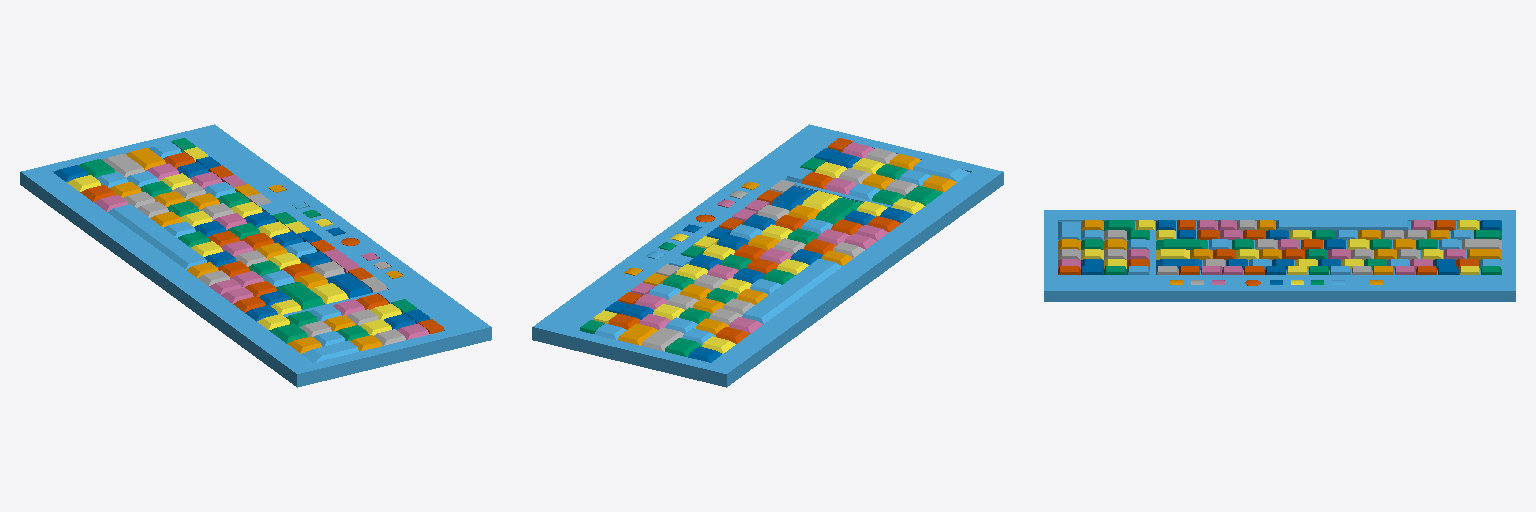
--- What the picture shows (computed from the rendered views, not written in the file) ---
The picture shows the robot from 3 angles, left to right: view 1: azimuth 30°, elevation 25°; view 2: azimuth 150°, elevation 25°; view 3: azimuth 270°, elevation 25°; orthographic projection.
Model partnet_df5e079819a96b84a4d90b04c435893 with 117 links and 116 joints (115 prismatic, 1 fixed), rooted at base, posed every joint at zero.
Links seen in each view (by area): view 1: link_0, link_104, link_57, link_96, link_59, link_22; view 2: link_0, link_104, link_57, link_96, link_59, link_22; view 3: link_0, link_104.
Link boxes in pixels (x1,y1,x2,y2): link_0: (20, 124, 491, 387); link_104: (108, 204, 206, 269); link_57: (276, 282, 324, 309); link_96: (302, 340, 358, 362); link_59: (326, 273, 371, 298); link_22: (103, 154, 144, 177); link_0: (532, 124, 1003, 387); link_104: (742, 259, 841, 323); link_57: (815, 198, 862, 224); link_96: (913, 159, 969, 181); link_59: (771, 186, 816, 210); link_22: (641, 327, 683, 351); link_0: (1044, 210, 1515, 301); link_104: (1276, 220, 1409, 230).
Bounding box of the posed robot: 0.7515 × 1.86 × 0.0588 m (x, y, z).
Meshes: 116 distinct files referenced, 116 mesh visuals loaded (116 OBJ).

The robot description file, URDF, robot "partnet_df5e079819a96b84a4d90b04c435893":
<?xml version="1.0" ?>
<robot name="partnet_df5e079819a96b84a4d90b04c435893">
	<link name="base"/>
	<link name="link_0">
		<visual>
			<origin xyz="0 0 0"/>
			<geometry>
				<mesh filename="textured_objs/original-116.obj"/>
			</geometry>
		</visual>
		<collision>
			<origin xyz="0 0 0"/>
			<geometry>
				<mesh filename="textured_objs/original-116.obj"/>
			</geometry>
		</collision>
	</link>
	<joint name="joint_0" type="fixed">
		<origin rpy="1.570796326794897 0 -1.570796326794897" xyz="0 0 0"/>
		<child link="link_0"/>
		<parent link="base"/>
	</joint>
	<link name="link_1">
		<visual>
			<origin xyz="0 0 0"/>
			<geometry>
				<mesh filename="textured_objs/original-49.obj"/>
			</geometry>
		</visual>
		<collision>
			<origin xyz="0 0 0"/>
			<geometry>
				<mesh filename="textured_objs/original-49.obj"/>
			</geometry>
		</collision>
	</link>
	<joint name="joint_1" type="prismatic">
		<origin xyz="0 0 0"/>
		<axis xyz="0 -1 0"/>
		<child link="link_1"/>
		<parent link="link_0"/>
		<limit lower="0" upper="0.015"/>
	</joint>
	<link name="link_2">
		<visual>
			<origin xyz="0 0 0"/>
			<geometry>
				<mesh filename="textured_objs/original-63.obj"/>
			</geometry>
		</visual>
		<collision>
			<origin xyz="0 0 0"/>
			<geometry>
				<mesh filename="textured_objs/original-63.obj"/>
			</geometry>
		</collision>
	</link>
	<joint name="joint_2" type="prismatic">
		<origin xyz="0 0 0"/>
		<axis xyz="0 -1 0"/>
		<child link="link_2"/>
		<parent link="link_0"/>
		<limit lower="0" upper="0.015"/>
	</joint>
	<link name="link_3">
		<visual>
			<origin xyz="0 0 0"/>
			<geometry>
				<mesh filename="textured_objs/original-64.obj"/>
			</geometry>
		</visual>
		<collision>
			<origin xyz="0 0 0"/>
			<geometry>
				<mesh filename="textured_objs/original-64.obj"/>
			</geometry>
		</collision>
	</link>
	<joint name="joint_3" type="prismatic">
		<origin xyz="0 0 0"/>
		<axis xyz="0 -1 0"/>
		<child link="link_3"/>
		<parent link="link_0"/>
		<limit lower="0" upper="0.015"/>
	</joint>
	<link name="link_4">
		<visual>
			<origin xyz="0 0 0"/>
			<geometry>
				<mesh filename="textured_objs/original-50.obj"/>
			</geometry>
		</visual>
		<collision>
			<origin xyz="0 0 0"/>
			<geometry>
				<mesh filename="textured_objs/original-50.obj"/>
			</geometry>
		</collision>
	</link>
	<joint name="joint_4" type="prismatic">
		<origin xyz="0 0 0"/>
		<axis xyz="0 -1 0"/>
		<child link="link_4"/>
		<parent link="link_0"/>
		<limit lower="0" upper="0.015"/>
	</joint>
	<link name="link_5">
		<visual>
			<origin xyz="0 0 0"/>
			<geometry>
				<mesh filename="textured_objs/original-38.obj"/>
			</geometry>
		</visual>
		<collision>
			<origin xyz="0 0 0"/>
			<geometry>
				<mesh filename="textured_objs/original-38.obj"/>
			</geometry>
		</collision>
	</link>
	<joint name="joint_5" type="prismatic">
		<origin xyz="0 0 0"/>
		<axis xyz="0 -1 0"/>
		<child link="link_5"/>
		<parent link="link_0"/>
		<limit lower="0" upper="0.015"/>
	</joint>
	<link name="link_6">
		<visual>
			<origin xyz="0 0 0"/>
			<geometry>
				<mesh filename="textured_objs/original-39.obj"/>
			</geometry>
		</visual>
		<collision>
			<origin xyz="0 0 0"/>
			<geometry>
				<mesh filename="textured_objs/original-39.obj"/>
			</geometry>
		</collision>
	</link>
	<joint name="joint_6" type="prismatic">
		<origin xyz="0 0 0"/>
		<axis xyz="0 -1 0"/>
		<child link="link_6"/>
		<parent link="link_0"/>
		<limit lower="0" upper="0.015"/>
	</joint>
	<link name="link_7">
		<visual>
			<origin xyz="0 0 0"/>
			<geometry>
				<mesh filename="textured_objs/original-51.obj"/>
			</geometry>
		</visual>
		<collision>
			<origin xyz="0 0 0"/>
			<geometry>
				<mesh filename="textured_objs/original-51.obj"/>
			</geometry>
		</collision>
	</link>
	<joint name="joint_7" type="prismatic">
		<origin xyz="0 0 0"/>
		<axis xyz="0 -1 0"/>
		<child link="link_7"/>
		<parent link="link_0"/>
		<limit lower="0" upper="0.015"/>
	</joint>
	<link name="link_8">
		<visual>
			<origin xyz="0 0 0"/>
			<geometry>
				<mesh filename="textured_objs/original-65.obj"/>
			</geometry>
		</visual>
		<collision>
			<origin xyz="0 0 0"/>
			<geometry>
				<mesh filename="textured_objs/original-65.obj"/>
			</geometry>
		</collision>
	</link>
	<joint name="joint_8" type="prismatic">
		<origin xyz="0 0 0"/>
		<axis xyz="0 -1 0"/>
		<child link="link_8"/>
		<parent link="link_0"/>
		<limit lower="0" upper="0.015"/>
	</joint>
	<link name="link_9">
		<visual>
			<origin xyz="0 0 0"/>
			<geometry>
				<mesh filename="textured_objs/original-40.obj"/>
			</geometry>
		</visual>
		<collision>
			<origin xyz="0 0 0"/>
			<geometry>
				<mesh filename="textured_objs/original-40.obj"/>
			</geometry>
		</collision>
	</link>
	<joint name="joint_9" type="prismatic">
		<origin xyz="0 0 0"/>
		<axis xyz="0 -1 0"/>
		<child link="link_9"/>
		<parent link="link_0"/>
		<limit lower="0" upper="0.015"/>
	</joint>
	<link name="link_10">
		<visual>
			<origin xyz="0 0 0"/>
			<geometry>
				<mesh filename="textured_objs/original-52.obj"/>
			</geometry>
		</visual>
		<collision>
			<origin xyz="0 0 0"/>
			<geometry>
				<mesh filename="textured_objs/original-52.obj"/>
			</geometry>
		</collision>
	</link>
	<joint name="joint_10" type="prismatic">
		<origin xyz="0 0 0"/>
		<axis xyz="0 -1 0"/>
		<child link="link_10"/>
		<parent link="link_0"/>
		<limit lower="0" upper="0.015"/>
	</joint>
	<link name="link_11">
		<visual>
			<origin xyz="0 0 0"/>
			<geometry>
				<mesh filename="textured_objs/original-66.obj"/>
			</geometry>
		</visual>
		<collision>
			<origin xyz="0 0 0"/>
			<geometry>
				<mesh filename="textured_objs/original-66.obj"/>
			</geometry>
		</collision>
	</link>
	<joint name="joint_11" type="prismatic">
		<origin xyz="0 0 0"/>
		<axis xyz="0 -1 0"/>
		<child link="link_11"/>
		<parent link="link_0"/>
		<limit lower="0" upper="0.015"/>
	</joint>
	<link name="link_12">
		<visual>
			<origin xyz="0 0 0"/>
			<geometry>
				<mesh filename="textured_objs/original-53.obj"/>
			</geometry>
		</visual>
		<collision>
			<origin xyz="0 0 0"/>
			<geometry>
				<mesh filename="textured_objs/original-53.obj"/>
			</geometry>
		</collision>
	</link>
	<joint name="joint_12" type="prismatic">
		<origin xyz="0 0 0"/>
		<axis xyz="0 -1 0"/>
		<child link="link_12"/>
		<parent link="link_0"/>
		<limit lower="0" upper="0.015"/>
	</joint>
	<link name="link_13">
		<visual>
			<origin xyz="0 0 0"/>
			<geometry>
				<mesh filename="textured_objs/original-58.obj"/>
			</geometry>
		</visual>
		<collision>
			<origin xyz="0 0 0"/>
			<geometry>
				<mesh filename="textured_objs/original-58.obj"/>
			</geometry>
		</collision>
	</link>
	<joint name="joint_13" type="prismatic">
		<origin xyz="0 0 0"/>
		<axis xyz="0 -1 0"/>
		<child link="link_13"/>
		<parent link="link_0"/>
		<limit lower="0" upper="0.015"/>
	</joint>
	<link name="link_14">
		<visual>
			<origin xyz="0 0 0"/>
			<geometry>
				<mesh filename="textured_objs/original-45.obj"/>
			</geometry>
		</visual>
		<collision>
			<origin xyz="0 0 0"/>
			<geometry>
				<mesh filename="textured_objs/original-45.obj"/>
			</geometry>
		</collision>
	</link>
	<joint name="joint_14" type="prismatic">
		<origin xyz="0 0 0"/>
		<axis xyz="0 -1 0"/>
		<child link="link_14"/>
		<parent link="link_0"/>
		<limit lower="0" upper="0.015"/>
	</joint>
	<link name="link_15">
		<visual>
			<origin xyz="0 0 0"/>
			<geometry>
				<mesh filename="textured_objs/original-33.obj"/>
			</geometry>
		</visual>
		<collision>
			<origin xyz="0 0 0"/>
			<geometry>
				<mesh filename="textured_objs/original-33.obj"/>
			</geometry>
		</collision>
	</link>
	<joint name="joint_15" type="prismatic">
		<origin xyz="0 0 0"/>
		<axis xyz="0 -1 0"/>
		<child link="link_15"/>
		<parent link="link_0"/>
		<limit lower="0" upper="0.015"/>
	</joint>
	<link name="link_16">
		<visual>
			<origin xyz="0 0 0"/>
			<geometry>
				<mesh filename="textured_objs/original-31.obj"/>
			</geometry>
		</visual>
		<collision>
			<origin xyz="0 0 0"/>
			<geometry>
				<mesh filename="textured_objs/original-31.obj"/>
			</geometry>
		</collision>
	</link>
	<joint name="joint_16" type="prismatic">
		<origin xyz="0 0 0"/>
		<axis xyz="0 -1 0"/>
		<child link="link_16"/>
		<parent link="link_0"/>
		<limit lower="0" upper="0.015"/>
	</joint>
	<link name="link_17">
		<visual>
			<origin xyz="0 0 0"/>
			<geometry>
				<mesh filename="textured_objs/original-32.obj"/>
			</geometry>
		</visual>
		<collision>
			<origin xyz="0 0 0"/>
			<geometry>
				<mesh filename="textured_objs/original-32.obj"/>
			</geometry>
		</collision>
	</link>
	<joint name="joint_17" type="prismatic">
		<origin xyz="0 0 0"/>
		<axis xyz="0 -1 0"/>
		<child link="link_17"/>
		<parent link="link_0"/>
		<limit lower="0" upper="0.015"/>
	</joint>
	<link name="link_18">
		<visual>
			<origin xyz="0 0 0"/>
			<geometry>
				<mesh filename="textured_objs/original-44.obj"/>
			</geometry>
		</visual>
		<collision>
			<origin xyz="0 0 0"/>
			<geometry>
				<mesh filename="textured_objs/original-44.obj"/>
			</geometry>
		</collision>
	</link>
	<joint name="joint_18" type="prismatic">
		<origin xyz="0 0 0"/>
		<axis xyz="0 -1 0"/>
		<child link="link_18"/>
		<parent link="link_0"/>
		<limit lower="0" upper="0.015"/>
	</joint>
	<link name="link_19">
		<visual>
			<origin xyz="0 0 0"/>
			<geometry>
				<mesh filename="textured_objs/original-57.obj"/>
			</geometry>
		</visual>
		<collision>
			<origin xyz="0 0 0"/>
			<geometry>
				<mesh filename="textured_objs/original-57.obj"/>
			</geometry>
		</collision>
	</link>
	<joint name="joint_19" type="prismatic">
		<origin xyz="0 0 0"/>
		<axis xyz="0 -1 0"/>
		<child link="link_19"/>
		<parent link="link_0"/>
		<limit lower="0" upper="0.015"/>
	</joint>
	<link name="link_20">
		<visual>
			<origin xyz="0 0 0"/>
			<geometry>
				<mesh filename="textured_objs/original-56.obj"/>
			</geometry>
		</visual>
		<collision>
			<origin xyz="0 0 0"/>
			<geometry>
				<mesh filename="textured_objs/original-56.obj"/>
			</geometry>
		</collision>
	</link>
	<joint name="joint_20" type="prismatic">
		<origin xyz="0 0 0"/>
		<axis xyz="0 -1 0"/>
		<child link="link_20"/>
		<parent link="link_0"/>
		<limit lower="0" upper="0.015"/>
	</joint>
	<link name="link_21">
		<visual>
			<origin xyz="0 0 0"/>
			<geometry>
				<mesh filename="textured_objs/original-43.obj"/>
			</geometry>
		</visual>
		<collision>
			<origin xyz="0 0 0"/>
			<geometry>
				<mesh filename="textured_objs/original-43.obj"/>
			</geometry>
		</collision>
	</link>
	<joint name="joint_21" type="prismatic">
		<origin xyz="0 0 0"/>
		<axis xyz="0 -1 0"/>
		<child link="link_21"/>
		<parent link="link_0"/>
		<limit lower="0" upper="0.015"/>
	</joint>
	<link name="link_22">
		<visual>
			<origin xyz="0 0 0"/>
			<geometry>
				<mesh filename="textured_objs/original-3.obj"/>
			</geometry>
		</visual>
		<collision>
			<origin xyz="0 0 0"/>
			<geometry>
				<mesh filename="textured_objs/original-3.obj"/>
			</geometry>
		</collision>
	</link>
	<joint name="joint_22" type="prismatic">
		<origin xyz="0 0 0"/>
		<axis xyz="0 -1 0"/>
		<child link="link_22"/>
		<parent link="link_0"/>
		<limit lower="0" upper="0.015"/>
	</joint>
	<link name="link_23">
		<visual>
			<origin xyz="0 0 0"/>
			<geometry>
				<mesh filename="textured_objs/original-4.obj"/>
			</geometry>
		</visual>
		<collision>
			<origin xyz="0 0 0"/>
			<geometry>
				<mesh filename="textured_objs/original-4.obj"/>
			</geometry>
		</collision>
	</link>
	<joint name="joint_23" type="prismatic">
		<origin xyz="0 0 0"/>
		<axis xyz="0 -1 0"/>
		<child link="link_23"/>
		<parent link="link_0"/>
		<limit lower="0" upper="0.015"/>
	</joint>
	<link name="link_24">
		<visual>
			<origin xyz="0 0 0"/>
			<geometry>
				<mesh filename="textured_objs/original-55.obj"/>
			</geometry>
		</visual>
		<collision>
			<origin xyz="0 0 0"/>
			<geometry>
				<mesh filename="textured_objs/original-55.obj"/>
			</geometry>
		</collision>
	</link>
	<joint name="joint_24" type="prismatic">
		<origin xyz="0 0 0"/>
		<axis xyz="0 -1 0"/>
		<child link="link_24"/>
		<parent link="link_0"/>
		<limit lower="0" upper="0.015"/>
	</joint>
	<link name="link_25">
		<visual>
			<origin xyz="0 0 0"/>
			<geometry>
				<mesh filename="textured_objs/original-70.obj"/>
			</geometry>
		</visual>
		<collision>
			<origin xyz="0 0 0"/>
			<geometry>
				<mesh filename="textured_objs/original-70.obj"/>
			</geometry>
		</collision>
	</link>
	<joint name="joint_25" type="prismatic">
		<origin xyz="0 0 0"/>
		<axis xyz="0 -1 0"/>
		<child link="link_25"/>
		<parent link="link_0"/>
		<limit lower="0" upper="0.015"/>
	</joint>
	<link name="link_26">
		<visual>
			<origin xyz="0 0 0"/>
			<geometry>
				<mesh filename="textured_objs/original-71.obj"/>
			</geometry>
		</visual>
		<collision>
			<origin xyz="0 0 0"/>
			<geometry>
				<mesh filename="textured_objs/original-71.obj"/>
			</geometry>
		</collision>
	</link>
	<joint name="joint_26" type="prismatic">
		<origin xyz="0 0 0"/>
		<axis xyz="0 -1 0"/>
		<child link="link_26"/>
		<parent link="link_0"/>
		<limit lower="0" upper="0.015"/>
	</joint>
	<link name="link_27">
		<visual>
			<origin xyz="0 0 0"/>
			<geometry>
				<mesh filename="textured_objs/original-72.obj"/>
			</geometry>
		</visual>
		<collision>
			<origin xyz="0 0 0"/>
			<geometry>
				<mesh filename="textured_objs/original-72.obj"/>
			</geometry>
		</collision>
	</link>
	<joint name="joint_27" type="prismatic">
		<origin xyz="0 0 0"/>
		<axis xyz="0 -1 0"/>
		<child link="link_27"/>
		<parent link="link_0"/>
		<limit lower="0" upper="0.015"/>
	</joint>
	<link name="link_28">
		<visual>
			<origin xyz="0 0 0"/>
			<geometry>
				<mesh filename="textured_objs/original-73.obj"/>
			</geometry>
		</visual>
		<collision>
			<origin xyz="0 0 0"/>
			<geometry>
				<mesh filename="textured_objs/original-73.obj"/>
			</geometry>
		</collision>
	</link>
	<joint name="joint_28" type="prismatic">
		<origin xyz="0 0 0"/>
		<axis xyz="0 -1 0"/>
		<child link="link_28"/>
		<parent link="link_0"/>
		<limit lower="0" upper="0.015"/>
	</joint>
	<link name="link_29">
		<visual>
			<origin xyz="0 0 0"/>
			<geometry>
				<mesh filename="textured_objs/original-74.obj"/>
			</geometry>
		</visual>
		<collision>
			<origin xyz="0 0 0"/>
			<geometry>
				<mesh filename="textured_objs/original-74.obj"/>
			</geometry>
		</collision>
	</link>
	<joint name="joint_29" type="prismatic">
		<origin xyz="0 0 0"/>
		<axis xyz="0 -1 0"/>
		<child link="link_29"/>
		<parent link="link_0"/>
		<limit lower="0" upper="0.015"/>
	</joint>
	<link name="link_30">
		<visual>
			<origin xyz="0 0 0"/>
			<geometry>
				<mesh filename="textured_objs/original-76.obj"/>
			</geometry>
		</visual>
		<collision>
			<origin xyz="0 0 0"/>
			<geometry>
				<mesh filename="textured_objs/original-76.obj"/>
			</geometry>
		</collision>
	</link>
	<joint name="joint_30" type="prismatic">
		<origin xyz="0 0 0"/>
		<axis xyz="0 -1 0"/>
		<child link="link_30"/>
		<parent link="link_0"/>
		<limit lower="0" upper="0.015"/>
	</joint>
	<link name="link_31">
		<visual>
			<origin xyz="0 0 0"/>
			<geometry>
				<mesh filename="textured_objs/original-75.obj"/>
			</geometry>
		</visual>
		<collision>
			<origin xyz="0 0 0"/>
			<geometry>
				<mesh filename="textured_objs/original-75.obj"/>
			</geometry>
		</collision>
	</link>
	<joint name="joint_31" type="prismatic">
		<origin xyz="0 0 0"/>
		<axis xyz="0 -1 0"/>
		<child link="link_31"/>
		<parent link="link_0"/>
		<limit lower="0" upper="0.015"/>
	</joint>
	<link name="link_32">
		<visual>
			<origin xyz="0 0 0"/>
			<geometry>
				<mesh filename="textured_objs/original-77.obj"/>
			</geometry>
		</visual>
		<collision>
			<origin xyz="0 0 0"/>
			<geometry>
				<mesh filename="textured_objs/original-77.obj"/>
			</geometry>
		</collision>
	</link>
	<joint name="joint_32" type="prismatic">
		<origin xyz="0 0 0"/>
		<axis xyz="0 -1 0"/>
		<child link="link_32"/>
		<parent link="link_0"/>
		<limit lower="0" upper="0.015"/>
	</joint>
	<link name="link_33">
		<visual>
			<origin xyz="0 0 0"/>
			<geometry>
				<mesh filename="textured_objs/original-78.obj"/>
			</geometry>
		</visual>
		<collision>
			<origin xyz="0 0 0"/>
			<geometry>
				<mesh filename="textured_objs/original-78.obj"/>
			</geometry>
		</collision>
	</link>
	<joint name="joint_33" type="prismatic">
		<origin xyz="0 0 0"/>
		<axis xyz="0 -1 0"/>
		<child link="link_33"/>
		<parent link="link_0"/>
		<limit lower="0" upper="0.015"/>
	</joint>
	<link name="link_34">
		<visual>
			<origin xyz="0 0 0"/>
			<geometry>
				<mesh filename="textured_objs/original-79.obj"/>
			</geometry>
		</visual>
		<collision>
			<origin xyz="0 0 0"/>
			<geometry>
				<mesh filename="textured_objs/original-79.obj"/>
			</geometry>
		</collision>
	</link>
	<joint name="joint_34" type="prismatic">
		<origin xyz="0 0 0"/>
		<axis xyz="0 -1 0"/>
		<child link="link_34"/>
		<parent link="link_0"/>
		<limit lower="0" upper="0.015"/>
	</joint>
	<link name="link_35">
		<visual>
			<origin xyz="0 0 0"/>
			<geometry>
				<mesh filename="textured_objs/original-80.obj"/>
			</geometry>
		</visual>
		<collision>
			<origin xyz="0 0 0"/>
			<geometry>
				<mesh filename="textured_objs/original-80.obj"/>
			</geometry>
		</collision>
	</link>
	<joint name="joint_35" type="prismatic">
		<origin xyz="0 0 0"/>
		<axis xyz="0 -1 0"/>
		<child link="link_35"/>
		<parent link="link_0"/>
		<limit lower="0" upper="0.015"/>
	</joint>
	<link name="link_36">
		<visual>
			<origin xyz="0 0 0"/>
			<geometry>
				<mesh filename="textured_objs/original-81.obj"/>
			</geometry>
		</visual>
		<collision>
			<origin xyz="0 0 0"/>
			<geometry>
				<mesh filename="textured_objs/original-81.obj"/>
			</geometry>
		</collision>
	</link>
	<joint name="joint_36" type="prismatic">
		<origin xyz="0 0 0"/>
		<axis xyz="0 -1 0"/>
		<child link="link_36"/>
		<parent link="link_0"/>
		<limit lower="0" upper="0.015"/>
	</joint>
	<link name="link_37">
		<visual>
			<origin xyz="0 0 0"/>
			<geometry>
				<mesh filename="textured_objs/original-82.obj"/>
			</geometry>
		</visual>
		<collision>
			<origin xyz="0 0 0"/>
			<geometry>
				<mesh filename="textured_objs/original-82.obj"/>
			</geometry>
		</collision>
	</link>
	<joint name="joint_37" type="prismatic">
		<origin xyz="0 0 0"/>
		<axis xyz="0 -1 0"/>
		<child link="link_37"/>
		<parent link="link_0"/>
		<limit lower="0" upper="0.015"/>
	</joint>
	<link name="link_38">
		<visual>
			<origin xyz="0 0 0"/>
			<geometry>
				<mesh filename="textured_objs/original-12.obj"/>
			</geometry>
		</visual>
		<collision>
			<origin xyz="0 0 0"/>
			<geometry>
				<mesh filename="textured_objs/original-12.obj"/>
			</geometry>
		</collision>
	</link>
	<joint name="joint_38" type="prismatic">
		<origin xyz="0 0 0"/>
		<axis xyz="0 -1 0"/>
		<child link="link_38"/>
		<parent link="link_0"/>
		<limit lower="0" upper="0.015"/>
	</joint>
	<link name="link_39">
		<visual>
			<origin xyz="0 0 0"/>
			<geometry>
				<mesh filename="textured_objs/original-11.obj"/>
			</geometry>
		</visual>
		<collision>
			<origin xyz="0 0 0"/>
			<geometry>
				<mesh filename="textured_objs/original-11.obj"/>
			</geometry>
		</collision>
	</link>
	<joint name="joint_39" type="prismatic">
		<origin xyz="0 0 0"/>
		<axis xyz="0 -1 0"/>
		<child link="link_39"/>
		<parent link="link_0"/>
		<limit lower="0" upper="0.015"/>
	</joint>
	<link name="link_40">
		<visual>
			<origin xyz="0 0 0"/>
			<geometry>
				<mesh filename="textured_objs/original-10.obj"/>
			</geometry>
		</visual>
		<collision>
			<origin xyz="0 0 0"/>
			<geometry>
				<mesh filename="textured_objs/original-10.obj"/>
			</geometry>
		</collision>
	</link>
	<joint name="joint_40" type="prismatic">
		<origin xyz="0 0 0"/>
		<axis xyz="0 -1 0"/>
		<child link="link_40"/>
		<parent link="link_0"/>
		<limit lower="0" upper="0.015"/>
	</joint>
	<link name="link_41">
		<visual>
			<origin xyz="0 0 0"/>
			<geometry>
				<mesh filename="textured_objs/original-1.obj"/>
			</geometry>
		</visual>
		<collision>
			<origin xyz="0 0 0"/>
			<geometry>
				<mesh filename="textured_objs/original-1.obj"/>
			</geometry>
		</collision>
	</link>
	<joint name="joint_41" type="prismatic">
		<origin xyz="0 0 0"/>
		<axis xyz="0 -1 0"/>
		<child link="link_41"/>
		<parent link="link_0"/>
		<limit lower="0" upper="0.015"/>
	</joint>
	<link name="link_42">
		<visual>
			<origin xyz="0 0 0"/>
			<geometry>
				<mesh filename="textured_objs/original-7.obj"/>
			</geometry>
		</visual>
		<collision>
			<origin xyz="0 0 0"/>
			<geometry>
				<mesh filename="textured_objs/original-7.obj"/>
			</geometry>
		</collision>
	</link>
	<joint name="joint_42" type="prismatic">
		<origin xyz="0 0 0"/>
		<axis xyz="0 -1 0"/>
		<child link="link_42"/>
		<parent link="link_0"/>
		<limit lower="0" upper="0.015"/>
	</joint>
	<link name="link_43">
		<visual>
			<origin xyz="0 0 0"/>
			<geometry>
				<mesh filename="textured_objs/original-6.obj"/>
			</geometry>
		</visual>
		<collision>
			<origin xyz="0 0 0"/>
			<geometry>
				<mesh filename="textured_objs/original-6.obj"/>
			</geometry>
		</collision>
	</link>
	<joint name="joint_43" type="prismatic">
		<origin xyz="0 0 0"/>
		<axis xyz="0 -1 0"/>
		<child link="link_43"/>
		<parent link="link_0"/>
		<limit lower="0" upper="0.015"/>
	</joint>
	<link name="link_44">
		<visual>
			<origin xyz="0 0 0"/>
			<geometry>
				<mesh filename="textured_objs/original-8.obj"/>
			</geometry>
		</visual>
		<collision>
			<origin xyz="0 0 0"/>
			<geometry>
				<mesh filename="textured_objs/original-8.obj"/>
			</geometry>
		</collision>
	</link>
	<joint name="joint_44" type="prismatic">
		<origin xyz="0 0 0"/>
		<axis xyz="0 -1 0"/>
		<child link="link_44"/>
		<parent link="link_0"/>
		<limit lower="0" upper="0.015"/>
	</joint>
	<link name="link_45">
		<visual>
			<origin xyz="0 0 0"/>
			<geometry>
				<mesh filename="textured_objs/original-9.obj"/>
			</geometry>
		</visual>
		<collision>
			<origin xyz="0 0 0"/>
			<geometry>
				<mesh filename="textured_objs/original-9.obj"/>
			</geometry>
		</collision>
	</link>
	<joint name="joint_45" type="prismatic">
		<origin xyz="0 0 0"/>
		<axis xyz="0 -1 0"/>
		<child link="link_45"/>
		<parent link="link_0"/>
		<limit lower="0" upper="0.015"/>
	</joint>
	<link name="link_46">
		<visual>
			<origin xyz="0 0 0"/>
			<geometry>
				<mesh filename="textured_objs/original-13.obj"/>
			</geometry>
		</visual>
		<collision>
			<origin xyz="0 0 0"/>
			<geometry>
				<mesh filename="textured_objs/original-13.obj"/>
			</geometry>
		</collision>
	</link>
	<joint name="joint_46" type="prismatic">
		<origin xyz="0 0 0"/>
		<axis xyz="0 -1 0"/>
		<child link="link_46"/>
		<parent link="link_0"/>
		<limit lower="0" upper="0.015"/>
	</joint>
	<link name="link_47">
		<visual>
			<origin xyz="0 0 0"/>
			<geometry>
				<mesh filename="textured_objs/original-14.obj"/>
			</geometry>
		</visual>
		<collision>
			<origin xyz="0 0 0"/>
			<geometry>
				<mesh filename="textured_objs/original-14.obj"/>
			</geometry>
		</collision>
	</link>
	<joint name="joint_47" type="prismatic">
		<origin xyz="0 0 0"/>
		<axis xyz="0 -1 0"/>
		<child link="link_47"/>
		<parent link="link_0"/>
		<limit lower="0" upper="0.015"/>
	</joint>
	<link name="link_48">
		<visual>
			<origin xyz="0 0 0"/>
			<geometry>
				<mesh filename="textured_objs/original-15.obj"/>
			</geometry>
		</visual>
		<collision>
			<origin xyz="0 0 0"/>
			<geometry>
				<mesh filename="textured_objs/original-15.obj"/>
			</geometry>
		</collision>
	</link>
	<joint name="joint_48" type="prismatic">
		<origin xyz="0 0 0"/>
		<axis xyz="0 -1 0"/>
		<child link="link_48"/>
		<parent link="link_0"/>
		<limit lower="0" upper="0.015"/>
	</joint>
	<link name="link_49">
		<visual>
			<origin xyz="0 0 0"/>
			<geometry>
				<mesh filename="textured_objs/original-16.obj"/>
			</geometry>
		</visual>
		<collision>
			<origin xyz="0 0 0"/>
			<geometry>
				<mesh filename="textured_objs/original-16.obj"/>
			</geometry>
		</collision>
	</link>
	<joint name="joint_49" type="prismatic">
		<origin xyz="0 0 0"/>
		<axis xyz="0 -1 0"/>
		<child link="link_49"/>
		<parent link="link_0"/>
		<limit lower="0" upper="0.015"/>
	</joint>
	<link name="link_50">
		<visual>
			<origin xyz="0 0 0"/>
			<geometry>
				<mesh filename="textured_objs/original-17.obj"/>
			</geometry>
		</visual>
		<collision>
			<origin xyz="0 0 0"/>
			<geometry>
				<mesh filename="textured_objs/original-17.obj"/>
			</geometry>
		</collision>
	</link>
	<joint name="joint_50" type="prismatic">
		<origin xyz="0 0 0"/>
		<axis xyz="0 -1 0"/>
		<child link="link_50"/>
		<parent link="link_0"/>
		<limit lower="0" upper="0.015"/>
	</joint>
	<link name="link_51">
		<visual>
			<origin xyz="0 0 0"/>
			<geometry>
				<mesh filename="textured_objs/original-18.obj"/>
			</geometry>
		</visual>
		<collision>
			<origin xyz="0 0 0"/>
			<geometry>
				<mesh filename="textured_objs/original-18.obj"/>
			</geometry>
		</collision>
	</link>
	<joint name="joint_51" type="prismatic">
		<origin xyz="0 0 0"/>
		<axis xyz="0 -1 0"/>
		<child link="link_51"/>
		<parent link="link_0"/>
		<limit lower="0" upper="0.015"/>
	</joint>
	<link name="link_52">
		<visual>
			<origin xyz="0 0 0"/>
			<geometry>
				<mesh filename="textured_objs/original-19.obj"/>
			</geometry>
		</visual>
		<collision>
			<origin xyz="0 0 0"/>
			<geometry>
				<mesh filename="textured_objs/original-19.obj"/>
			</geometry>
		</collision>
	</link>
	<joint name="joint_52" type="prismatic">
		<origin xyz="0 0 0"/>
		<axis xyz="0 -1 0"/>
		<child link="link_52"/>
		<parent link="link_0"/>
		<limit lower="0" upper="0.015"/>
	</joint>
	<link name="link_53">
		<visual>
			<origin xyz="0 0 0"/>
			<geometry>
				<mesh filename="textured_objs/original-20.obj"/>
			</geometry>
		</visual>
		<collision>
			<origin xyz="0 0 0"/>
			<geometry>
				<mesh filename="textured_objs/original-20.obj"/>
			</geometry>
		</collision>
	</link>
	<joint name="joint_53" type="prismatic">
		<origin xyz="0 0 0"/>
		<axis xyz="0 -1 0"/>
		<child link="link_53"/>
		<parent link="link_0"/>
		<limit lower="0" upper="0.015"/>
	</joint>
	<link name="link_54">
		<visual>
			<origin xyz="0 0 0"/>
			<geometry>
				<mesh filename="textured_objs/original-67.obj"/>
			</geometry>
		</visual>
		<collision>
			<origin xyz="0 0 0"/>
			<geometry>
				<mesh filename="textured_objs/original-67.obj"/>
			</geometry>
		</collision>
	</link>
	<joint name="joint_54" type="prismatic">
		<origin xyz="0 0 0"/>
		<axis xyz="0 -1 0"/>
		<child link="link_54"/>
		<parent link="link_0"/>
		<limit lower="0" upper="0.015"/>
	</joint>
	<link name="link_55">
		<visual>
			<origin xyz="0 0 0"/>
			<geometry>
				<mesh filename="textured_objs/original-54.obj"/>
			</geometry>
		</visual>
		<collision>
			<origin xyz="0 0 0"/>
			<geometry>
				<mesh filename="textured_objs/original-54.obj"/>
			</geometry>
		</collision>
	</link>
	<joint name="joint_55" type="prismatic">
		<origin xyz="0 0 0"/>
		<axis xyz="0 -1 0"/>
		<child link="link_55"/>
		<parent link="link_0"/>
		<limit lower="0" upper="0.015"/>
	</joint>
	<link name="link_56">
		<visual>
			<origin xyz="0 0 0"/>
			<geometry>
				<mesh filename="textured_objs/original-41.obj"/>
			</geometry>
		</visual>
		<collision>
			<origin xyz="0 0 0"/>
			<geometry>
				<mesh filename="textured_objs/original-41.obj"/>
			</geometry>
		</collision>
	</link>
	<joint name="joint_56" type="prismatic">
		<origin xyz="0 0 0"/>
		<axis xyz="0 -1 0"/>
		<child link="link_56"/>
		<parent link="link_0"/>
		<limit lower="0" upper="0.015"/>
	</joint>
	<link name="link_57">
		<visual>
			<origin xyz="0 0 0"/>
			<geometry>
				<mesh filename="textured_objs/original-42.obj"/>
			</geometry>
		</visual>
		<collision>
			<origin xyz="0 0 0"/>
			<geometry>
				<mesh filename="textured_objs/original-42.obj"/>
			</geometry>
		</collision>
	</link>
	<joint name="joint_57" type="prismatic">
		<origin xyz="0 0 0"/>
		<axis xyz="0 -1 0"/>
		<child link="link_57"/>
		<parent link="link_0"/>
		<limit lower="0" upper="0.015"/>
	</joint>
	<link name="link_58">
		<visual>
			<origin xyz="0 0 0"/>
			<geometry>
				<mesh filename="textured_objs/original-68.obj"/>
			</geometry>
		</visual>
		<collision>
			<origin xyz="0 0 0"/>
			<geometry>
				<mesh filename="textured_objs/original-68.obj"/>
			</geometry>
		</collision>
	</link>
	<joint name="joint_58" type="prismatic">
		<origin xyz="0 0 0"/>
		<axis xyz="0 -1 0"/>
		<child link="link_58"/>
		<parent link="link_0"/>
		<limit lower="0" upper="0.015"/>
	</joint>
	<link name="link_59">
		<visual>
			<origin xyz="0 0 0"/>
			<geometry>
				<mesh filename="textured_objs/original-69.obj"/>
			</geometry>
		</visual>
		<collision>
			<origin xyz="0 0 0"/>
			<geometry>
				<mesh filename="textured_objs/original-69.obj"/>
			</geometry>
		</collision>
	</link>
	<joint name="joint_59" type="prismatic">
		<origin xyz="0 0 0"/>
		<axis xyz="0 -1 0"/>
		<child link="link_59"/>
		<parent link="link_0"/>
		<limit lower="0" upper="0.015"/>
	</joint>
	<link name="link_60">
		<visual>
			<origin xyz="0 0 0"/>
			<geometry>
				<mesh filename="textured_objs/original-84.obj"/>
			</geometry>
		</visual>
		<collision>
			<origin xyz="0 0 0"/>
			<geometry>
				<mesh filename="textured_objs/original-84.obj"/>
			</geometry>
		</collision>
	</link>
	<joint name="joint_60" type="prismatic">
		<origin xyz="0 0 0"/>
		<axis xyz="0 -1 0"/>
		<child link="link_60"/>
		<parent link="link_0"/>
		<limit lower="0" upper="0.015"/>
	</joint>
	<link name="link_61">
		<visual>
			<origin xyz="0 0 0"/>
			<geometry>
				<mesh filename="textured_objs/original-83.obj"/>
			</geometry>
		</visual>
		<collision>
			<origin xyz="0 0 0"/>
			<geometry>
				<mesh filename="textured_objs/original-83.obj"/>
			</geometry>
		</collision>
	</link>
	<joint name="joint_61" type="prismatic">
		<origin xyz="0 0 0"/>
		<axis xyz="0 -1 0"/>
		<child link="link_61"/>
		<parent link="link_0"/>
		<limit lower="0" upper="0.015"/>
	</joint>
	<link name="link_62">
		<visual>
			<origin xyz="0 0 0"/>
			<geometry>
				<mesh filename="textured_objs/original-85.obj"/>
			</geometry>
		</visual>
		<collision>
			<origin xyz="0 0 0"/>
			<geometry>
				<mesh filename="textured_objs/original-85.obj"/>
			</geometry>
		</collision>
	</link>
	<joint name="joint_62" type="prismatic">
		<origin xyz="0 0 0"/>
		<axis xyz="0 -1 0"/>
		<child link="link_62"/>
		<parent link="link_0"/>
		<limit lower="0" upper="0.015"/>
	</joint>
	<link name="link_63">
		<visual>
			<origin xyz="0 0 0"/>
			<geometry>
				<mesh filename="textured_objs/original-108.obj"/>
			</geometry>
		</visual>
		<collision>
			<origin xyz="0 0 0"/>
			<geometry>
				<mesh filename="textured_objs/original-108.obj"/>
			</geometry>
		</collision>
	</link>
	<joint name="joint_63" type="prismatic">
		<origin xyz="0 0 0"/>
		<axis xyz="0 -1 0"/>
		<child link="link_63"/>
		<parent link="link_0"/>
		<limit lower="0" upper="0.003"/>
	</joint>
	<link name="link_64">
		<visual>
			<origin xyz="0 0 0"/>
			<geometry>
				<mesh filename="textured_objs/original-109.obj"/>
			</geometry>
		</visual>
		<collision>
			<origin xyz="0 0 0"/>
			<geometry>
				<mesh filename="textured_objs/original-109.obj"/>
			</geometry>
		</collision>
	</link>
	<joint name="joint_64" type="prismatic">
		<origin xyz="0 0 0"/>
		<axis xyz="0 -1 0"/>
		<child link="link_64"/>
		<parent link="link_0"/>
		<limit lower="0" upper="0.003"/>
	</joint>
	<link name="link_65">
		<visual>
			<origin xyz="0 0 0"/>
			<geometry>
				<mesh filename="textured_objs/original-110.obj"/>
			</geometry>
		</visual>
		<collision>
			<origin xyz="0 0 0"/>
			<geometry>
				<mesh filename="textured_objs/original-110.obj"/>
			</geometry>
		</collision>
	</link>
	<joint name="joint_65" type="prismatic">
		<origin xyz="0 0 0"/>
		<axis xyz="0 -1 0"/>
		<child link="link_65"/>
		<parent link="link_0"/>
		<limit lower="0" upper="0.003"/>
	</joint>
	<link name="link_66">
		<visual>
			<origin xyz="0 0 0"/>
			<geometry>
				<mesh filename="textured_objs/original-111.obj"/>
			</geometry>
		</visual>
		<collision>
			<origin xyz="0 0 0"/>
			<geometry>
				<mesh filename="textured_objs/original-111.obj"/>
			</geometry>
		</collision>
	</link>
	<joint name="joint_66" type="prismatic">
		<origin xyz="0 0 0"/>
		<axis xyz="0 -1 0"/>
		<child link="link_66"/>
		<parent link="link_0"/>
		<limit lower="0" upper="0.003"/>
	</joint>
	<link name="link_67">
		<visual>
			<origin xyz="0 0 0"/>
			<geometry>
				<mesh filename="textured_objs/original-112.obj"/>
			</geometry>
		</visual>
		<collision>
			<origin xyz="0 0 0"/>
			<geometry>
				<mesh filename="textured_objs/original-112.obj"/>
			</geometry>
		</collision>
	</link>
	<joint name="joint_67" type="prismatic">
		<origin xyz="0 0 0"/>
		<axis xyz="0 -1 0"/>
		<child link="link_67"/>
		<parent link="link_0"/>
		<limit lower="0" upper="0.003"/>
	</joint>
	<link name="link_68">
		<visual>
			<origin xyz="0 0 0"/>
			<geometry>
				<mesh filename="textured_objs/original-5.obj"/>
			</geometry>
		</visual>
		<collision>
			<origin xyz="0 0 0"/>
			<geometry>
				<mesh filename="textured_objs/original-5.obj"/>
			</geometry>
		</collision>
	</link>
	<joint name="joint_68" type="prismatic">
		<origin xyz="0 0 0"/>
		<axis xyz="0 -1 0"/>
		<child link="link_68"/>
		<parent link="link_0"/>
		<limit lower="0" upper="0.003"/>
	</joint>
	<link name="link_69">
		<visual>
			<origin xyz="0 0 0"/>
			<geometry>
				<mesh filename="textured_objs/original-113.obj"/>
			</geometry>
		</visual>
		<collision>
			<origin xyz="0 0 0"/>
			<geometry>
				<mesh filename="textured_objs/original-113.obj"/>
			</geometry>
		</collision>
	</link>
	<joint name="joint_69" type="prismatic">
		<origin xyz="0 0 0"/>
		<axis xyz="0 -1 0"/>
		<child link="link_69"/>
		<parent link="link_0"/>
		<limit lower="0" upper="0.003"/>
	</joint>
	<link name="link_70">
		<visual>
			<origin xyz="0 0 0"/>
			<geometry>
				<mesh filename="textured_objs/original-114.obj"/>
			</geometry>
		</visual>
		<collision>
			<origin xyz="0 0 0"/>
			<geometry>
				<mesh filename="textured_objs/original-114.obj"/>
			</geometry>
		</collision>
	</link>
	<joint name="joint_70" type="prismatic">
		<origin xyz="0 0 0"/>
		<axis xyz="0 -1 0"/>
		<child link="link_70"/>
		<parent link="link_0"/>
		<limit lower="0" upper="0.003"/>
	</joint>
	<link name="link_71">
		<visual>
			<origin xyz="0 0 0"/>
			<geometry>
				<mesh filename="textured_objs/original-115.obj"/>
			</geometry>
		</visual>
		<collision>
			<origin xyz="0 0 0"/>
			<geometry>
				<mesh filename="textured_objs/original-115.obj"/>
			</geometry>
		</collision>
	</link>
	<joint name="joint_71" type="prismatic">
		<origin xyz="0 0 0"/>
		<axis xyz="0 -1 0"/>
		<child link="link_71"/>
		<parent link="link_0"/>
		<limit lower="0" upper="0.003"/>
	</joint>
	<link name="link_72">
		<visual>
			<origin xyz="0 0 0"/>
			<geometry>
				<mesh filename="textured_objs/original-104.obj"/>
			</geometry>
		</visual>
		<collision>
			<origin xyz="0 0 0"/>
			<geometry>
				<mesh filename="textured_objs/original-104.obj"/>
			</geometry>
		</collision>
	</link>
	<joint name="joint_72" type="prismatic">
		<origin xyz="0 0 0"/>
		<axis xyz="0 -1 0"/>
		<child link="link_72"/>
		<parent link="link_0"/>
		<limit lower="0" upper="0.015"/>
	</joint>
	<link name="link_73">
		<visual>
			<origin xyz="0 0 0"/>
			<geometry>
				<mesh filename="textured_objs/original-105.obj"/>
			</geometry>
		</visual>
		<collision>
			<origin xyz="0 0 0"/>
			<geometry>
				<mesh filename="textured_objs/original-105.obj"/>
			</geometry>
		</collision>
	</link>
	<joint name="joint_73" type="prismatic">
		<origin xyz="0 0 0"/>
		<axis xyz="0 -1 0"/>
		<child link="link_73"/>
		<parent link="link_0"/>
		<limit lower="0" upper="0.015"/>
	</joint>
	<link name="link_74">
		<visual>
			<origin xyz="0 0 0"/>
			<geometry>
				<mesh filename="textured_objs/original-95.obj"/>
			</geometry>
		</visual>
		<collision>
			<origin xyz="0 0 0"/>
			<geometry>
				<mesh filename="textured_objs/original-95.obj"/>
			</geometry>
		</collision>
	</link>
	<joint name="joint_74" type="prismatic">
		<origin xyz="0 0 0"/>
		<axis xyz="0 -1 0"/>
		<child link="link_74"/>
		<parent link="link_0"/>
		<limit lower="0" upper="0.015"/>
	</joint>
	<link name="link_75">
		<visual>
			<origin xyz="0 0 0"/>
			<geometry>
				<mesh filename="textured_objs/original-97.obj"/>
			</geometry>
		</visual>
		<collision>
			<origin xyz="0 0 0"/>
			<geometry>
				<mesh filename="textured_objs/original-97.obj"/>
			</geometry>
		</collision>
	</link>
	<joint name="joint_75" type="prismatic">
		<origin xyz="0 0 0"/>
		<axis xyz="0 -1 0"/>
		<child link="link_75"/>
		<parent link="link_0"/>
		<limit lower="0" upper="0.015"/>
	</joint>
	<link name="link_76">
		<visual>
			<origin xyz="0 0 0"/>
			<geometry>
				<mesh filename="textured_objs/original-96.obj"/>
			</geometry>
		</visual>
		<collision>
			<origin xyz="0 0 0"/>
			<geometry>
				<mesh filename="textured_objs/original-96.obj"/>
			</geometry>
		</collision>
	</link>
	<joint name="joint_76" type="prismatic">
		<origin xyz="0 0 0"/>
		<axis xyz="0 -1 0"/>
		<child link="link_76"/>
		<parent link="link_0"/>
		<limit lower="0" upper="0.015"/>
	</joint>
	<link name="link_77">
		<visual>
			<origin xyz="0 0 0"/>
			<geometry>
				<mesh filename="textured_objs/original-92.obj"/>
			</geometry>
		</visual>
		<collision>
			<origin xyz="0 0 0"/>
			<geometry>
				<mesh filename="textured_objs/original-92.obj"/>
			</geometry>
		</collision>
	</link>
	<joint name="joint_77" type="prismatic">
		<origin xyz="0 0 0"/>
		<axis xyz="0 -1 0"/>
		<child link="link_77"/>
		<parent link="link_0"/>
		<limit lower="0" upper="0.015"/>
	</joint>
	<link name="link_78">
		<visual>
			<origin xyz="0 0 0"/>
			<geometry>
				<mesh filename="textured_objs/original-94.obj"/>
			</geometry>
		</visual>
		<collision>
			<origin xyz="0 0 0"/>
			<geometry>
				<mesh filename="textured_objs/original-94.obj"/>
			</geometry>
		</collision>
	</link>
	<joint name="joint_78" type="prismatic">
		<origin xyz="0 0 0"/>
		<axis xyz="0 -1 0"/>
		<child link="link_78"/>
		<parent link="link_0"/>
		<limit lower="0" upper="0.015"/>
	</joint>
	<link name="link_79">
		<visual>
			<origin xyz="0 0 0"/>
			<geometry>
				<mesh filename="textured_objs/original-90.obj"/>
			</geometry>
		</visual>
		<collision>
			<origin xyz="0 0 0"/>
			<geometry>
				<mesh filename="textured_objs/original-90.obj"/>
			</geometry>
		</collision>
	</link>
	<joint name="joint_79" type="prismatic">
		<origin xyz="0 0 0"/>
		<axis xyz="0 -1 0"/>
		<child link="link_79"/>
		<parent link="link_0"/>
		<limit lower="0" upper="0.015"/>
	</joint>
	<link name="link_80">
		<visual>
			<origin xyz="0 0 0"/>
			<geometry>
				<mesh filename="textured_objs/original-89.obj"/>
			</geometry>
		</visual>
		<collision>
			<origin xyz="0 0 0"/>
			<geometry>
				<mesh filename="textured_objs/original-89.obj"/>
			</geometry>
		</collision>
	</link>
	<joint name="joint_80" type="prismatic">
		<origin xyz="0 0 0"/>
		<axis xyz="0 -1 0"/>
		<child link="link_80"/>
		<parent link="link_0"/>
		<limit lower="0" upper="0.015"/>
	</joint>
	<link name="link_81">
		<visual>
			<origin xyz="0 0 0"/>
			<geometry>
				<mesh filename="textured_objs/original-86.obj"/>
			</geometry>
		</visual>
		<collision>
			<origin xyz="0 0 0"/>
			<geometry>
				<mesh filename="textured_objs/original-86.obj"/>
			</geometry>
		</collision>
	</link>
	<joint name="joint_81" type="prismatic">
		<origin xyz="0 0 0"/>
		<axis xyz="0 -1 0"/>
		<child link="link_81"/>
		<parent link="link_0"/>
		<limit lower="0" upper="0.015"/>
	</joint>
	<link name="link_82">
		<visual>
			<origin xyz="0 0 0"/>
			<geometry>
				<mesh filename="textured_objs/original-30.obj"/>
			</geometry>
		</visual>
		<collision>
			<origin xyz="0 0 0"/>
			<geometry>
				<mesh filename="textured_objs/original-30.obj"/>
			</geometry>
		</collision>
	</link>
	<joint name="joint_82" type="prismatic">
		<origin xyz="0 0 0"/>
		<axis xyz="0 -1 0"/>
		<child link="link_82"/>
		<parent link="link_0"/>
		<limit lower="0" upper="0.015"/>
	</joint>
	<link name="link_83">
		<visual>
			<origin xyz="0 0 0"/>
			<geometry>
				<mesh filename="textured_objs/original-29.obj"/>
			</geometry>
		</visual>
		<collision>
			<origin xyz="0 0 0"/>
			<geometry>
				<mesh filename="textured_objs/original-29.obj"/>
			</geometry>
		</collision>
	</link>
	<joint name="joint_83" type="prismatic">
		<origin xyz="0 0 0"/>
		<axis xyz="0 -1 0"/>
		<child link="link_83"/>
		<parent link="link_0"/>
		<limit lower="0" upper="0.015"/>
	</joint>
	<link name="link_84">
		<visual>
			<origin xyz="0 0 0"/>
			<geometry>
				<mesh filename="textured_objs/original-21.obj"/>
			</geometry>
		</visual>
		<collision>
			<origin xyz="0 0 0"/>
			<geometry>
				<mesh filename="textured_objs/original-21.obj"/>
			</geometry>
		</collision>
	</link>
	<joint name="joint_84" type="prismatic">
		<origin xyz="0 0 0"/>
		<axis xyz="0 -1 0"/>
		<child link="link_84"/>
		<parent link="link_0"/>
		<limit lower="0" upper="0.015"/>
	</joint>
	<link name="link_85">
		<visual>
			<origin xyz="0 0 0"/>
			<geometry>
				<mesh filename="textured_objs/original-25.obj"/>
			</geometry>
		</visual>
		<collision>
			<origin xyz="0 0 0"/>
			<geometry>
				<mesh filename="textured_objs/original-25.obj"/>
			</geometry>
		</collision>
	</link>
	<joint name="joint_85" type="prismatic">
		<origin xyz="0 0 0"/>
		<axis xyz="0 -1 0"/>
		<child link="link_85"/>
		<parent link="link_0"/>
		<limit lower="0" upper="0.015"/>
	</joint>
	<link name="link_86">
		<visual>
			<origin xyz="0 0 0"/>
			<geometry>
				<mesh filename="textured_objs/original-87.obj"/>
			</geometry>
		</visual>
		<collision>
			<origin xyz="0 0 0"/>
			<geometry>
				<mesh filename="textured_objs/original-87.obj"/>
			</geometry>
		</collision>
	</link>
	<joint name="joint_86" type="prismatic">
		<origin xyz="0 0 0"/>
		<axis xyz="0 -1 0"/>
		<child link="link_86"/>
		<parent link="link_0"/>
		<limit lower="0" upper="0.015"/>
	</joint>
	<link name="link_87">
		<visual>
			<origin xyz="0 0 0"/>
			<geometry>
				<mesh filename="textured_objs/original-103.obj"/>
			</geometry>
		</visual>
		<collision>
			<origin xyz="0 0 0"/>
			<geometry>
				<mesh filename="textured_objs/original-103.obj"/>
			</geometry>
		</collision>
	</link>
	<joint name="joint_87" type="prismatic">
		<origin xyz="0 0 0"/>
		<axis xyz="0 -1 0"/>
		<child link="link_87"/>
		<parent link="link_0"/>
		<limit lower="0" upper="0.015"/>
	</joint>
	<link name="link_88">
		<visual>
			<origin xyz="0 0 0"/>
			<geometry>
				<mesh filename="textured_objs/original-88.obj"/>
			</geometry>
		</visual>
		<collision>
			<origin xyz="0 0 0"/>
			<geometry>
				<mesh filename="textured_objs/original-88.obj"/>
			</geometry>
		</collision>
	</link>
	<joint name="joint_88" type="prismatic">
		<origin xyz="0 0 0"/>
		<axis xyz="0 -1 0"/>
		<child link="link_88"/>
		<parent link="link_0"/>
		<limit lower="0" upper="0.015"/>
	</joint>
	<link name="link_89">
		<visual>
			<origin xyz="0 0 0"/>
			<geometry>
				<mesh filename="textured_objs/original-91.obj"/>
			</geometry>
		</visual>
		<collision>
			<origin xyz="0 0 0"/>
			<geometry>
				<mesh filename="textured_objs/original-91.obj"/>
			</geometry>
		</collision>
	</link>
	<joint name="joint_89" type="prismatic">
		<origin xyz="0 0 0"/>
		<axis xyz="0 -1 0"/>
		<child link="link_89"/>
		<parent link="link_0"/>
		<limit lower="0" upper="0.015"/>
	</joint>
	<link name="link_90">
		<visual>
			<origin xyz="0 0 0"/>
			<geometry>
				<mesh filename="textured_objs/original-93.obj"/>
			</geometry>
		</visual>
		<collision>
			<origin xyz="0 0 0"/>
			<geometry>
				<mesh filename="textured_objs/original-93.obj"/>
			</geometry>
		</collision>
	</link>
	<joint name="joint_90" type="prismatic">
		<origin xyz="0 0 0"/>
		<axis xyz="0 -1 0"/>
		<child link="link_90"/>
		<parent link="link_0"/>
		<limit lower="0" upper="0.015"/>
	</joint>
	<link name="link_91">
		<visual>
			<origin xyz="0 0 0"/>
			<geometry>
				<mesh filename="textured_objs/original-106.obj"/>
			</geometry>
		</visual>
		<collision>
			<origin xyz="0 0 0"/>
			<geometry>
				<mesh filename="textured_objs/original-106.obj"/>
			</geometry>
		</collision>
	</link>
	<joint name="joint_91" type="prismatic">
		<origin xyz="0 0 0"/>
		<axis xyz="0 -1 0"/>
		<child link="link_91"/>
		<parent link="link_0"/>
		<limit lower="0" upper="0.015"/>
	</joint>
	<link name="link_92">
		<visual>
			<origin xyz="0 0 0"/>
			<geometry>
				<mesh filename="textured_objs/original-107.obj"/>
			</geometry>
		</visual>
		<collision>
			<origin xyz="0 0 0"/>
			<geometry>
				<mesh filename="textured_objs/original-107.obj"/>
			</geometry>
		</collision>
	</link>
	<joint name="joint_92" type="prismatic">
		<origin xyz="0 0 0"/>
		<axis xyz="0 -1 0"/>
		<child link="link_92"/>
		<parent link="link_0"/>
		<limit lower="0" upper="0.015"/>
	</joint>
	<link name="link_93">
		<visual>
			<origin xyz="0 0 0"/>
			<geometry>
				<mesh filename="textured_objs/original-98.obj"/>
			</geometry>
		</visual>
		<collision>
			<origin xyz="0 0 0"/>
			<geometry>
				<mesh filename="textured_objs/original-98.obj"/>
			</geometry>
		</collision>
	</link>
	<joint name="joint_93" type="prismatic">
		<origin xyz="0 0 0"/>
		<axis xyz="0 -1 0"/>
		<child link="link_93"/>
		<parent link="link_0"/>
		<limit lower="0" upper="0.015"/>
	</joint>
	<link name="link_94">
		<visual>
			<origin xyz="0 0 0"/>
			<geometry>
				<mesh filename="textured_objs/original-99.obj"/>
			</geometry>
		</visual>
		<collision>
			<origin xyz="0 0 0"/>
			<geometry>
				<mesh filename="textured_objs/original-99.obj"/>
			</geometry>
		</collision>
	</link>
	<joint name="joint_94" type="prismatic">
		<origin xyz="0 0 0"/>
		<axis xyz="0 -1 0"/>
		<child link="link_94"/>
		<parent link="link_0"/>
		<limit lower="0" upper="0.015"/>
	</joint>
	<link name="link_95">
		<visual>
			<origin xyz="0 0 0"/>
			<geometry>
				<mesh filename="textured_objs/original-100.obj"/>
			</geometry>
		</visual>
		<collision>
			<origin xyz="0 0 0"/>
			<geometry>
				<mesh filename="textured_objs/original-100.obj"/>
			</geometry>
		</collision>
	</link>
	<joint name="joint_95" type="prismatic">
		<origin xyz="0 0 0"/>
		<axis xyz="0 -1 0"/>
		<child link="link_95"/>
		<parent link="link_0"/>
		<limit lower="0" upper="0.015"/>
	</joint>
	<link name="link_96">
		<visual>
			<origin xyz="0 0 0"/>
			<geometry>
				<mesh filename="textured_objs/original-101.obj"/>
			</geometry>
		</visual>
		<collision>
			<origin xyz="0 0 0"/>
			<geometry>
				<mesh filename="textured_objs/original-101.obj"/>
			</geometry>
		</collision>
	</link>
	<joint name="joint_96" type="prismatic">
		<origin xyz="0 0 0"/>
		<axis xyz="0 -1 0"/>
		<child link="link_96"/>
		<parent link="link_0"/>
		<limit lower="0" upper="0.015"/>
	</joint>
	<link name="link_97">
		<visual>
			<origin xyz="0 0 0"/>
			<geometry>
				<mesh filename="textured_objs/original-102.obj"/>
			</geometry>
		</visual>
		<collision>
			<origin xyz="0 0 0"/>
			<geometry>
				<mesh filename="textured_objs/original-102.obj"/>
			</geometry>
		</collision>
	</link>
	<joint name="joint_97" type="prismatic">
		<origin xyz="0 0 0"/>
		<axis xyz="0 -1 0"/>
		<child link="link_97"/>
		<parent link="link_0"/>
		<limit lower="0" upper="0.015"/>
	</joint>
	<link name="link_98">
		<visual>
			<origin xyz="0 0 0"/>
			<geometry>
				<mesh filename="textured_objs/original-28.obj"/>
			</geometry>
		</visual>
		<collision>
			<origin xyz="0 0 0"/>
			<geometry>
				<mesh filename="textured_objs/original-28.obj"/>
			</geometry>
		</collision>
	</link>
	<joint name="joint_98" type="prismatic">
		<origin xyz="0 0 0"/>
		<axis xyz="0 -1 0"/>
		<child link="link_98"/>
		<parent link="link_0"/>
		<limit lower="0" upper="0.015"/>
	</joint>
	<link name="link_99">
		<visual>
			<origin xyz="0 0 0"/>
			<geometry>
				<mesh filename="textured_objs/original-27.obj"/>
			</geometry>
		</visual>
		<collision>
			<origin xyz="0 0 0"/>
			<geometry>
				<mesh filename="textured_objs/original-27.obj"/>
			</geometry>
		</collision>
	</link>
	<joint name="joint_99" type="prismatic">
		<origin xyz="0 0 0"/>
		<axis xyz="0 -1 0"/>
		<child link="link_99"/>
		<parent link="link_0"/>
		<limit lower="0" upper="0.015"/>
	</joint>
	<link name="link_100">
		<visual>
			<origin xyz="0 0 0"/>
			<geometry>
				<mesh filename="textured_objs/original-26.obj"/>
			</geometry>
		</visual>
		<collision>
			<origin xyz="0 0 0"/>
			<geometry>
				<mesh filename="textured_objs/original-26.obj"/>
			</geometry>
		</collision>
	</link>
	<joint name="joint_100" type="prismatic">
		<origin xyz="0 0 0"/>
		<axis xyz="0 -1 0"/>
		<child link="link_100"/>
		<parent link="link_0"/>
		<limit lower="0" upper="0.015"/>
	</joint>
	<link name="link_101">
		<visual>
			<origin xyz="0 0 0"/>
			<geometry>
				<mesh filename="textured_objs/original-24.obj"/>
			</geometry>
		</visual>
		<collision>
			<origin xyz="0 0 0"/>
			<geometry>
				<mesh filename="textured_objs/original-24.obj"/>
			</geometry>
		</collision>
	</link>
	<joint name="joint_101" type="prismatic">
		<origin xyz="0 0 0"/>
		<axis xyz="0 -1 0"/>
		<child link="link_101"/>
		<parent link="link_0"/>
		<limit lower="0" upper="0.015"/>
	</joint>
	<link name="link_102">
		<visual>
			<origin xyz="0 0 0"/>
			<geometry>
				<mesh filename="textured_objs/original-23.obj"/>
			</geometry>
		</visual>
		<collision>
			<origin xyz="0 0 0"/>
			<geometry>
				<mesh filename="textured_objs/original-23.obj"/>
			</geometry>
		</collision>
	</link>
	<joint name="joint_102" type="prismatic">
		<origin xyz="0 0 0"/>
		<axis xyz="0 -1 0"/>
		<child link="link_102"/>
		<parent link="link_0"/>
		<limit lower="0" upper="0.015"/>
	</joint>
	<link name="link_103">
		<visual>
			<origin xyz="0 0 0"/>
			<geometry>
				<mesh filename="textured_objs/original-22.obj"/>
			</geometry>
		</visual>
		<collision>
			<origin xyz="0 0 0"/>
			<geometry>
				<mesh filename="textured_objs/original-22.obj"/>
			</geometry>
		</collision>
	</link>
	<joint name="joint_103" type="prismatic">
		<origin xyz="0 0 0"/>
		<axis xyz="0 -1 0"/>
		<child link="link_103"/>
		<parent link="link_0"/>
		<limit lower="0" upper="0.015"/>
	</joint>
	<link name="link_104">
		<visual>
			<origin xyz="0 0 0"/>
			<geometry>
				<mesh filename="textured_objs/original-2.obj"/>
			</geometry>
		</visual>
		<collision>
			<origin xyz="0 0 0"/>
			<geometry>
				<mesh filename="textured_objs/original-2.obj"/>
			</geometry>
		</collision>
	</link>
	<joint name="joint_104" type="prismatic">
		<origin xyz="0 0 0"/>
		<axis xyz="0 -1 0"/>
		<child link="link_104"/>
		<parent link="link_0"/>
		<limit lower="0" upper="0.015"/>
	</joint>
	<link name="link_105">
		<visual>
			<origin xyz="0 0 0"/>
			<geometry>
				<mesh filename="textured_objs/original-34.obj"/>
			</geometry>
		</visual>
		<collision>
			<origin xyz="0 0 0"/>
			<geometry>
				<mesh filename="textured_objs/original-34.obj"/>
			</geometry>
		</collision>
	</link>
	<joint name="joint_105" type="prismatic">
		<origin xyz="0 0 0"/>
		<axis xyz="0 -1 0"/>
		<child link="link_105"/>
		<parent link="link_0"/>
		<limit lower="0" upper="0.015"/>
	</joint>
	<link name="link_106">
		<visual>
			<origin xyz="0 0 0"/>
			<geometry>
				<mesh filename="textured_objs/original-35.obj"/>
			</geometry>
		</visual>
		<collision>
			<origin xyz="0 0 0"/>
			<geometry>
				<mesh filename="textured_objs/original-35.obj"/>
			</geometry>
		</collision>
	</link>
	<joint name="joint_106" type="prismatic">
		<origin xyz="0 0 0"/>
		<axis xyz="0 -1 0"/>
		<child link="link_106"/>
		<parent link="link_0"/>
		<limit lower="0" upper="0.015"/>
	</joint>
	<link name="link_107">
		<visual>
			<origin xyz="0 0 0"/>
			<geometry>
				<mesh filename="textured_objs/original-36.obj"/>
			</geometry>
		</visual>
		<collision>
			<origin xyz="0 0 0"/>
			<geometry>
				<mesh filename="textured_objs/original-36.obj"/>
			</geometry>
		</collision>
	</link>
	<joint name="joint_107" type="prismatic">
		<origin xyz="0 0 0"/>
		<axis xyz="0 -1 0"/>
		<child link="link_107"/>
		<parent link="link_0"/>
		<limit lower="0" upper="0.015"/>
	</joint>
	<link name="link_108">
		<visual>
			<origin xyz="0 0 0"/>
			<geometry>
				<mesh filename="textured_objs/original-37.obj"/>
			</geometry>
		</visual>
		<collision>
			<origin xyz="0 0 0"/>
			<geometry>
				<mesh filename="textured_objs/original-37.obj"/>
			</geometry>
		</collision>
	</link>
	<joint name="joint_108" type="prismatic">
		<origin xyz="0 0 0"/>
		<axis xyz="0 -1 0"/>
		<child link="link_108"/>
		<parent link="link_0"/>
		<limit lower="0" upper="0.015"/>
	</joint>
	<link name="link_109">
		<visual>
			<origin xyz="0 0 0"/>
			<geometry>
				<mesh filename="textured_objs/original-48.obj"/>
			</geometry>
		</visual>
		<collision>
			<origin xyz="0 0 0"/>
			<geometry>
				<mesh filename="textured_objs/original-48.obj"/>
			</geometry>
		</collision>
	</link>
	<joint name="joint_109" type="prismatic">
		<origin xyz="0 0 0"/>
		<axis xyz="0 -1 0"/>
		<child link="link_109"/>
		<parent link="link_0"/>
		<limit lower="0" upper="0.015"/>
	</joint>
	<link name="link_110">
		<visual>
			<origin xyz="0 0 0"/>
			<geometry>
				<mesh filename="textured_objs/original-47.obj"/>
			</geometry>
		</visual>
		<collision>
			<origin xyz="0 0 0"/>
			<geometry>
				<mesh filename="textured_objs/original-47.obj"/>
			</geometry>
		</collision>
	</link>
	<joint name="joint_110" type="prismatic">
		<origin xyz="0 0 0"/>
		<axis xyz="0 -1 0"/>
		<child link="link_110"/>
		<parent link="link_0"/>
		<limit lower="0" upper="0.015"/>
	</joint>
	<link name="link_111">
		<visual>
			<origin xyz="0 0 0"/>
			<geometry>
				<mesh filename="textured_objs/original-46.obj"/>
			</geometry>
		</visual>
		<collision>
			<origin xyz="0 0 0"/>
			<geometry>
				<mesh filename="textured_objs/original-46.obj"/>
			</geometry>
		</collision>
	</link>
	<joint name="joint_111" type="prismatic">
		<origin xyz="0 0 0"/>
		<axis xyz="0 -1 0"/>
		<child link="link_111"/>
		<parent link="link_0"/>
		<limit lower="0" upper="0.015"/>
	</joint>
	<link name="link_112">
		<visual>
			<origin xyz="0 0 0"/>
			<geometry>
				<mesh filename="textured_objs/original-59.obj"/>
			</geometry>
		</visual>
		<collision>
			<origin xyz="0 0 0"/>
			<geometry>
				<mesh filename="textured_objs/original-59.obj"/>
			</geometry>
		</collision>
	</link>
	<joint name="joint_112" type="prismatic">
		<origin xyz="0 0 0"/>
		<axis xyz="0 -1 0"/>
		<child link="link_112"/>
		<parent link="link_0"/>
		<limit lower="0" upper="0.015"/>
	</joint>
	<link name="link_113">
		<visual>
			<origin xyz="0 0 0"/>
			<geometry>
				<mesh filename="textured_objs/original-60.obj"/>
			</geometry>
		</visual>
		<collision>
			<origin xyz="0 0 0"/>
			<geometry>
				<mesh filename="textured_objs/original-60.obj"/>
			</geometry>
		</collision>
	</link>
	<joint name="joint_113" type="prismatic">
		<origin xyz="0 0 0"/>
		<axis xyz="0 -1 0"/>
		<child link="link_113"/>
		<parent link="link_0"/>
		<limit lower="0" upper="0.015"/>
	</joint>
	<link name="link_114">
		<visual>
			<origin xyz="0 0 0"/>
			<geometry>
				<mesh filename="textured_objs/original-61.obj"/>
			</geometry>
		</visual>
		<collision>
			<origin xyz="0 0 0"/>
			<geometry>
				<mesh filename="textured_objs/original-61.obj"/>
			</geometry>
		</collision>
	</link>
	<joint name="joint_114" type="prismatic">
		<origin xyz="0 0 0"/>
		<axis xyz="0 -1 0"/>
		<child link="link_114"/>
		<parent link="link_0"/>
		<limit lower="0" upper="0.015"/>
	</joint>
	<link name="link_115">
		<visual>
			<origin xyz="0 0 0"/>
			<geometry>
				<mesh filename="textured_objs/original-62.obj"/>
			</geometry>
		</visual>
		<collision>
			<origin xyz="0 0 0"/>
			<geometry>
				<mesh filename="textured_objs/original-62.obj"/>
			</geometry>
		</collision>
	</link>
	<joint name="joint_115" type="prismatic">
		<origin xyz="0 0 0"/>
		<axis xyz="0 -1 0"/>
		<child link="link_115"/>
		<parent link="link_0"/>
		<limit lower="0" upper="0.015"/>
	</joint>
</robot>
